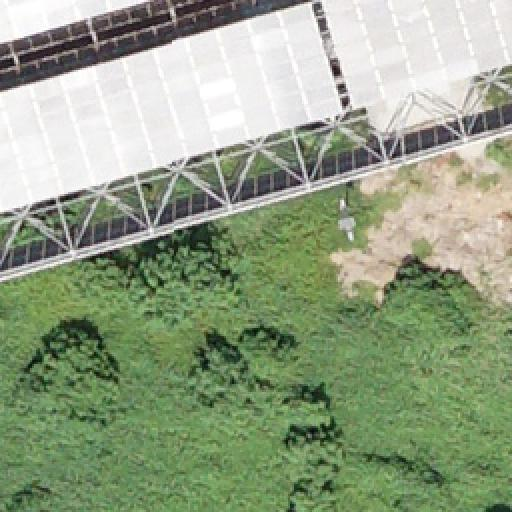solar-panel: (1, 1, 343, 215), (322, 0, 510, 108), (0, 1, 152, 47)
